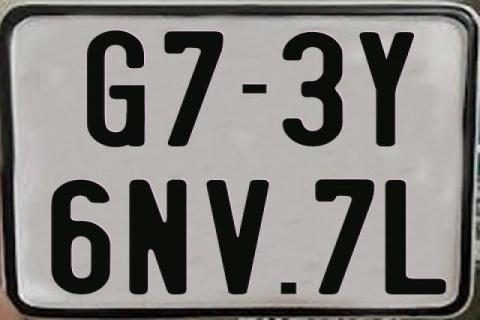0: (280, 30, 344, 148), (161, 32, 221, 152), (312, 179, 371, 296), (50, 177, 109, 293)
G: (84, 29, 148, 149)
L: (383, 178, 444, 296)
N: (128, 177, 187, 293)
V: (206, 177, 270, 297)
Y: (358, 31, 417, 148)
